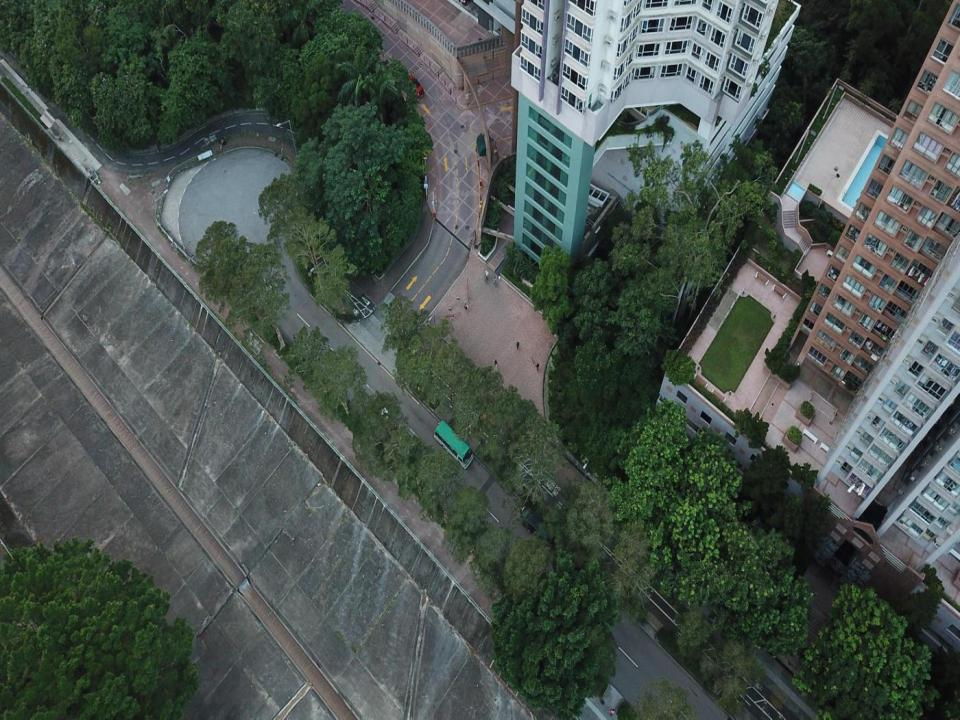bus: (434, 419, 473, 469)
car: (408, 75, 424, 99)
truck: (518, 503, 556, 550)
